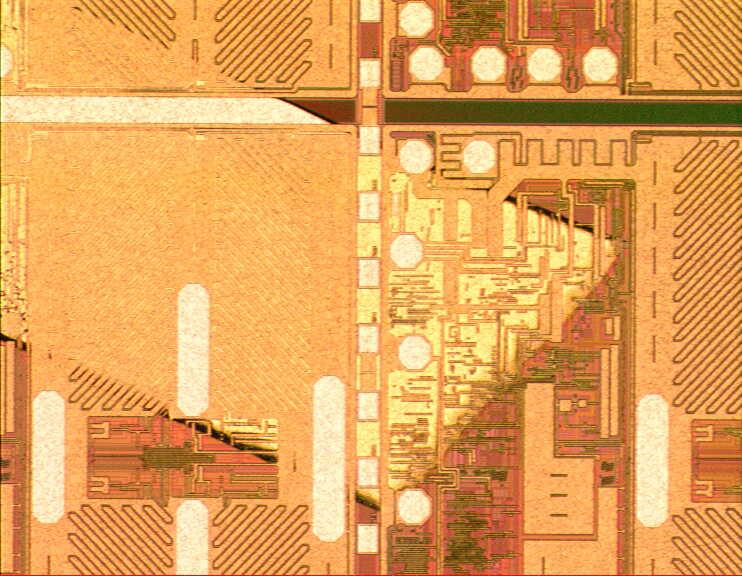BLOCK ETCH: (1, 1, 636, 522)
